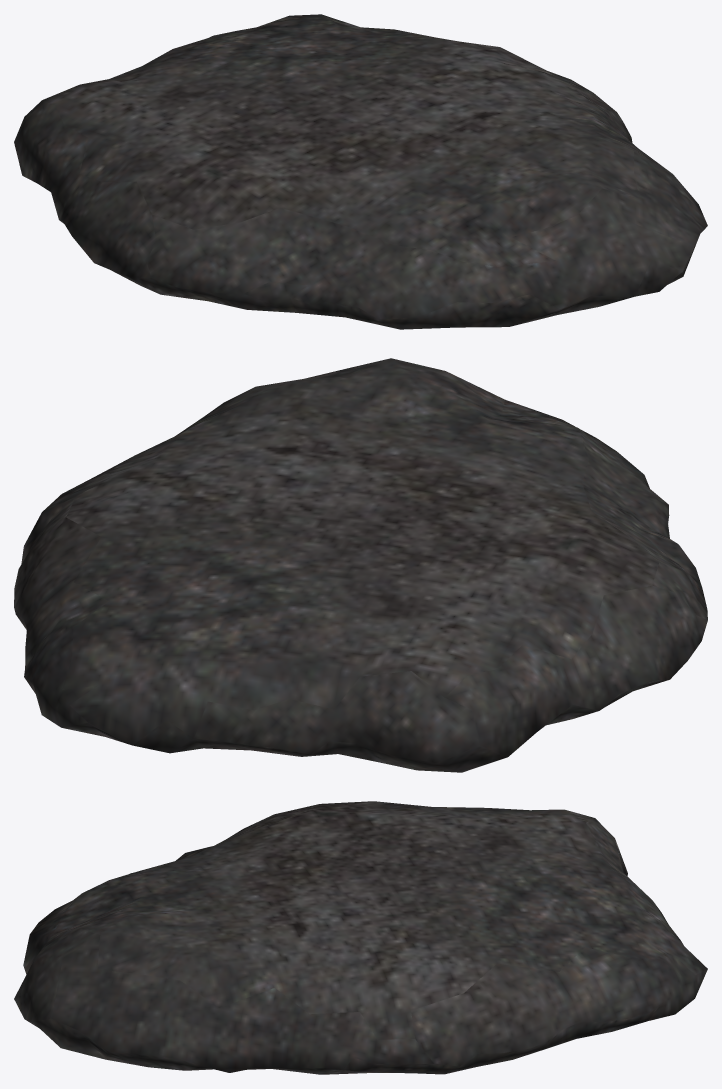
Rendered from rock 17.glb.
The picture shows the model from 3 angles, top to bottom: view 1: azimuth 30°, elevation 25°; view 2: azimuth 150°, elevation 25°; view 3: azimuth 270°, elevation 25°; orthographic projection. The views are drawn at different scales.
Visible parts, largest first — view 1: AR17; view 2: AR17; view 3: AR17.
Part boxes in pixels (x1,y1,x2,y2): AR17: [14, 14, 707, 329]; AR17: [14, 358, 707, 772]; AR17: [14, 801, 707, 1074].
Size of the model in its own units: 17 by 3.02 by 20.26.
1 material, 1 textured.
